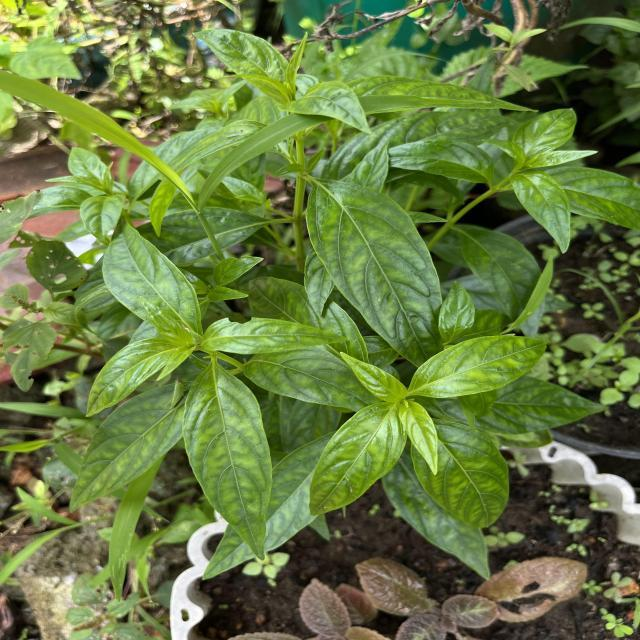Andrographis paniculata: (306, 178, 444, 362), (182, 361, 276, 562), (68, 378, 182, 515), (101, 214, 203, 336), (308, 402, 408, 517), (410, 418, 510, 530), (408, 334, 549, 399), (85, 336, 174, 418), (202, 316, 350, 356), (510, 173, 572, 254), (398, 400, 439, 476)
